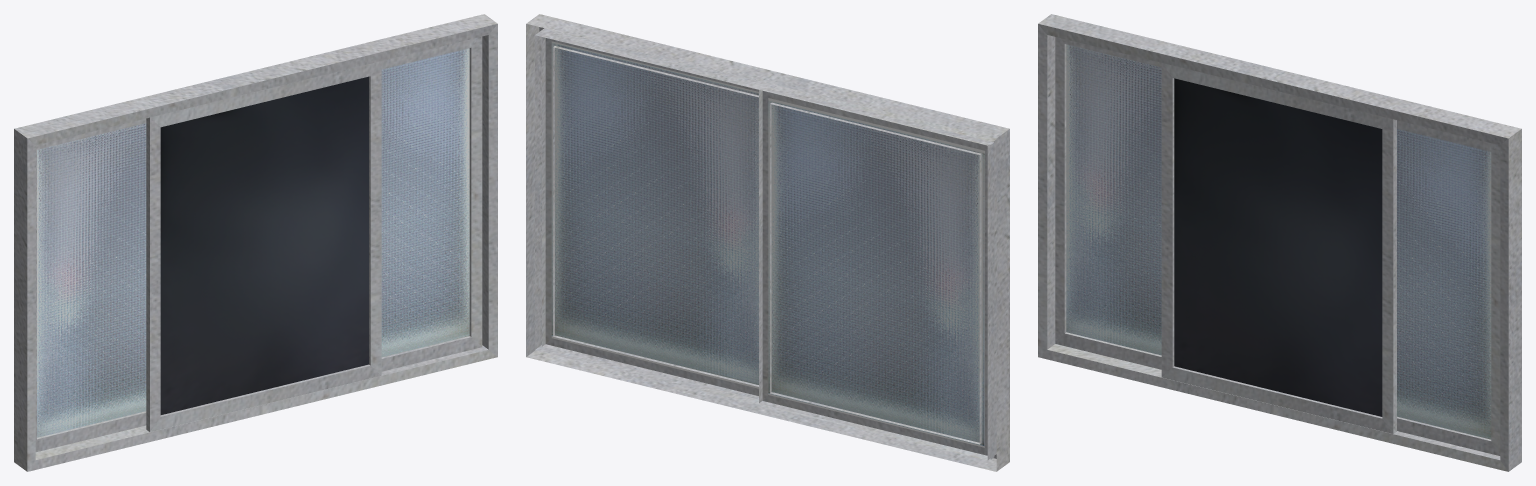
The model's file is Window_1m_004.fbx.
3 views of the same model, side by side, from view 1: azimuth 30°, elevation 25°; view 2: azimuth 150°, elevation 25°; view 3: azimuth 330°, elevation 25° (orthographic).
Visible parts, largest first — view 1: Window_1m_004; view 2: Window_1m_004; view 3: Window_1m_004.
Boxes of the visible parts, box(x1,y1,x2,y2) form: Window_1m_004: box(14, 14, 497, 471); Window_1m_004: box(526, 14, 1009, 471); Window_1m_004: box(1038, 14, 1521, 471).
Size of the model in its own units: 148 by 100 by 7.28.
1 material, 1 textured.
